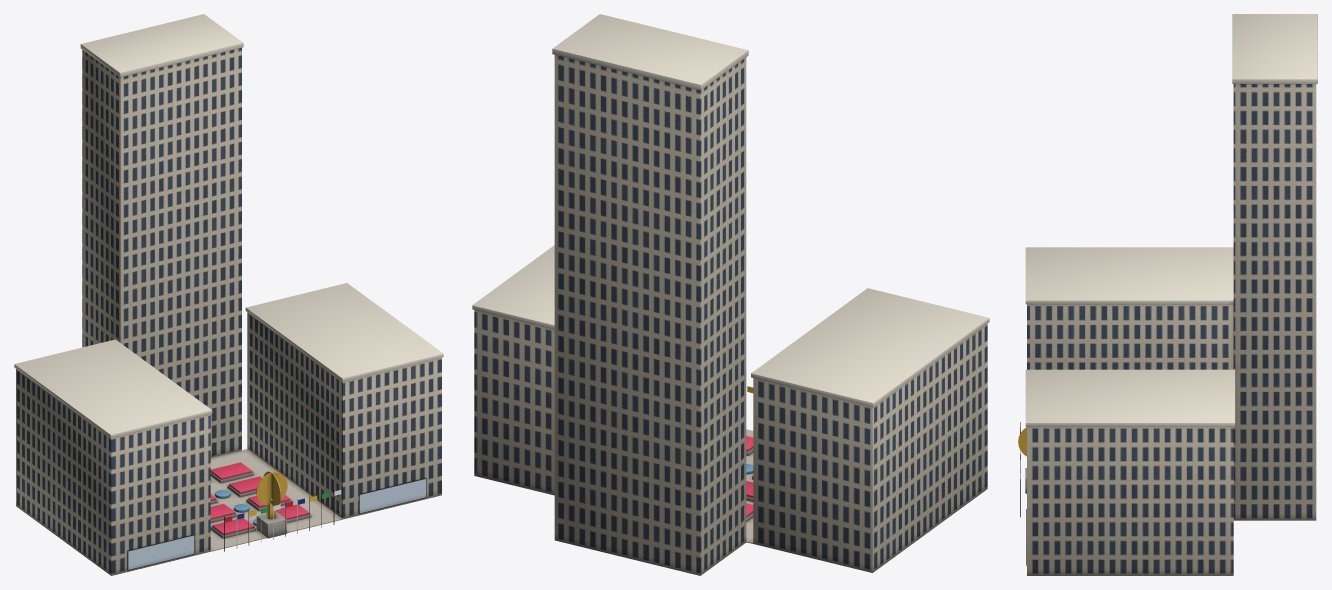
The model's file is rockefeller.glb.
3 renders of one model, left to right at view 1: azimuth 30°, elevation 25°; view 2: azimuth 150°, elevation 25°; view 3: azimuth 270°, elevation 25°, orthographic. The views are drawn at different scales.
Parts seen in each view (by area): view 1: rockefeller; view 2: rockefeller; view 3: rockefeller.
Boxes of the visible parts, x1=… form: rockefeller: x1=14, y1=14, x2=443, y2=575; rockefeller: x1=472, y1=14, x2=989, y2=575; rockefeller: x1=1018, y1=14, x2=1317, y2=575.
Bounding box in the file's own units: 60.4 × 70.8 × 43.5.
Materials: 1 (1 with a texture image).
